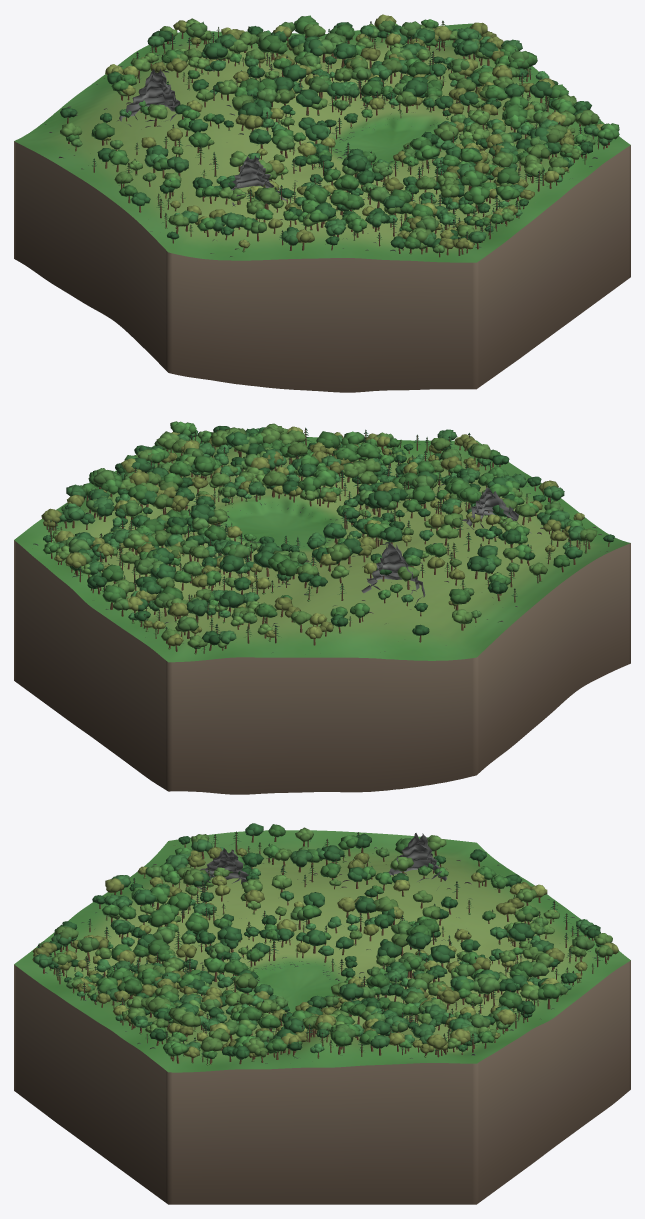
3 views of the same model, one above another, from view 1: azimuth 30°, elevation 25°; view 2: azimuth 150°, elevation 25°; view 3: azimuth 270°, elevation 25° (orthographic).
Parts seen in each view (by area): view 1: hex_side_cut, broadleaf_canopy, terrain, trunks, conifer_canopy, rock_escarpments; view 2: hex_side_cut, broadleaf_canopy, terrain, trunks, conifer_canopy, rock_escarpments; view 3: hex_side_cut, broadleaf_canopy, terrain, trunks, conifer_canopy, rock_escarpments.
Boxes of the visible parts, bbox=[...] form: hex_side_cut: bbox=[14, 141, 630, 392]; broadleaf_canopy: bbox=[60, 14, 619, 253]; terrain: bbox=[14, 23, 630, 262]; trunks: bbox=[67, 21, 609, 257]; conifer_canopy: bbox=[92, 20, 599, 248]; rock_escarpments: bbox=[119, 68, 287, 205]; hex_side_cut: bbox=[14, 540, 630, 794]; broadleaf_canopy: bbox=[41, 421, 614, 648]; terrain: bbox=[14, 435, 630, 662]; trunks: bbox=[46, 428, 609, 654]; conifer_canopy: bbox=[47, 427, 589, 649]; rock_escarpments: bbox=[361, 487, 531, 604]; hex_side_cut: bbox=[14, 960, 630, 1204]; broadleaf_canopy: bbox=[32, 823, 618, 1059]; terrain: bbox=[14, 830, 630, 1072]; trunks: bbox=[38, 832, 609, 1064]; conifer_canopy: bbox=[37, 831, 602, 1060]; rock_escarpments: bbox=[197, 833, 446, 888].
Size of the model in its own units: 4330 by 1821 by 5000.
